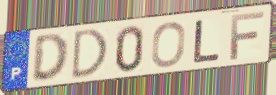0: (114, 23, 146, 75)
D: (69, 27, 110, 82), (30, 32, 70, 84)
F: (229, 10, 266, 62)
L: (191, 18, 222, 65)
O: (149, 21, 187, 70)
